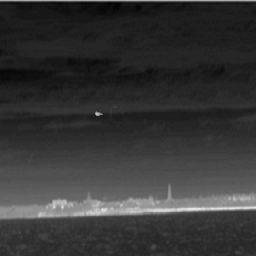Target: (94, 111, 104, 116)
